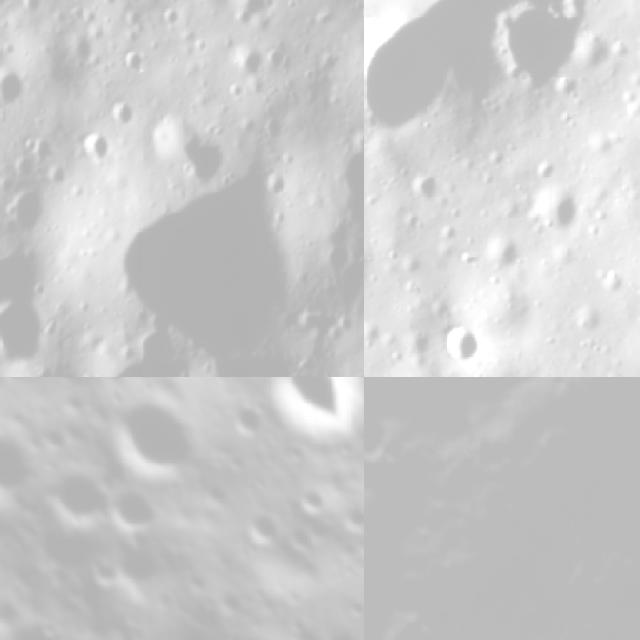crater: (481, 0, 605, 123), (95, 377, 215, 498), (364, 0, 447, 153), (86, 510, 186, 610), (238, 377, 347, 463), (20, 500, 109, 590), (0, 399, 60, 521), (139, 108, 230, 188), (31, 454, 115, 539), (91, 475, 166, 549), (222, 490, 296, 563), (208, 385, 278, 454), (0, 289, 60, 367), (524, 184, 582, 248), (0, 177, 59, 235), (289, 471, 343, 524), (0, 606, 82, 640), (66, 126, 120, 176), (434, 319, 484, 371), (0, 557, 29, 638), (478, 239, 524, 284), (401, 173, 445, 213), (0, 60, 32, 113), (104, 94, 142, 134), (334, 494, 364, 543), (120, 40, 152, 76), (261, 168, 294, 196)
